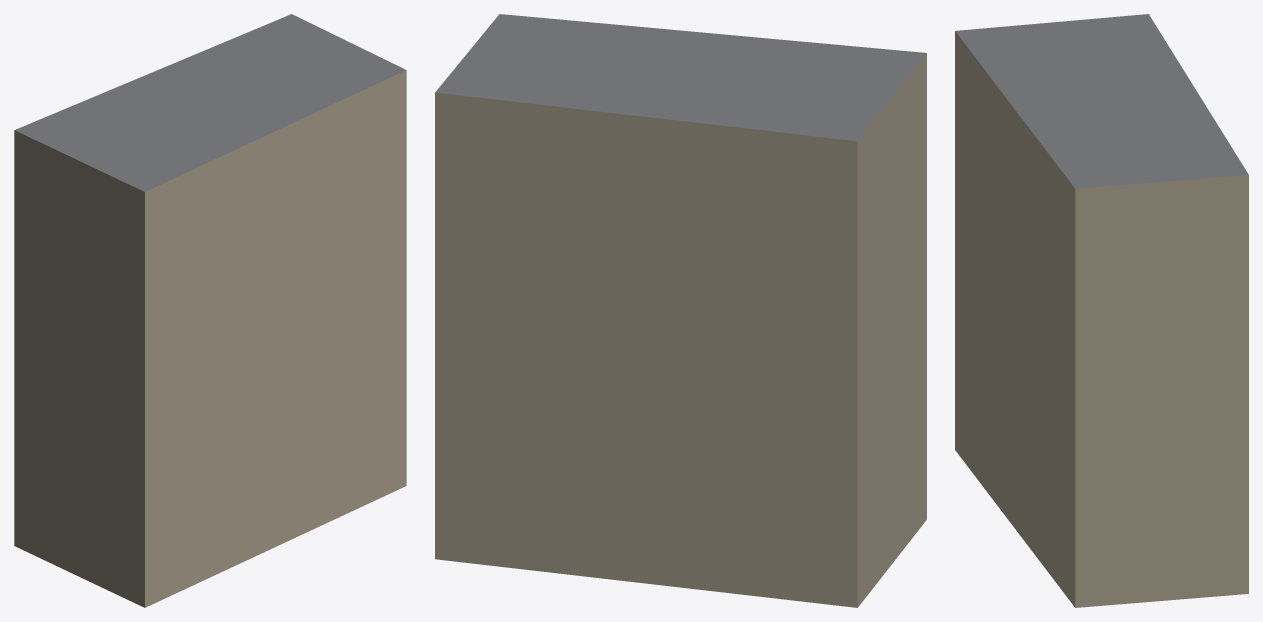
3 views of the same model, side by side, from view 1: azimuth 30°, elevation 25°; view 2: azimuth 150°, elevation 25°; view 3: azimuth 270°, elevation 25° (orthographic). The views are drawn at different scales.
Visible parts, largest first — view 1: tuile; view 2: tuile; view 3: tuile.
Part boxes in pixels (x1,y1,x2,y2): tuile: (14, 14, 406, 607); tuile: (435, 14, 926, 607); tuile: (955, 14, 1248, 607).
Size of the model in its own units: 6.2 by 6.93 by 4.4.
